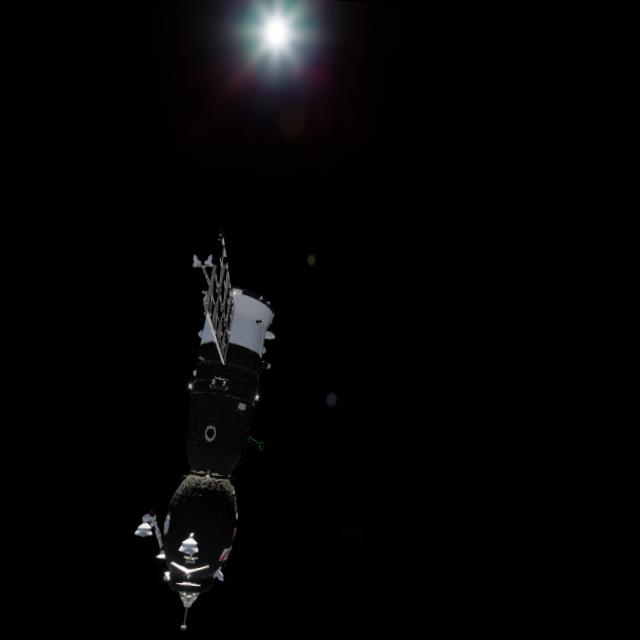Satellites revolving around earth: (128, 222, 284, 633)
